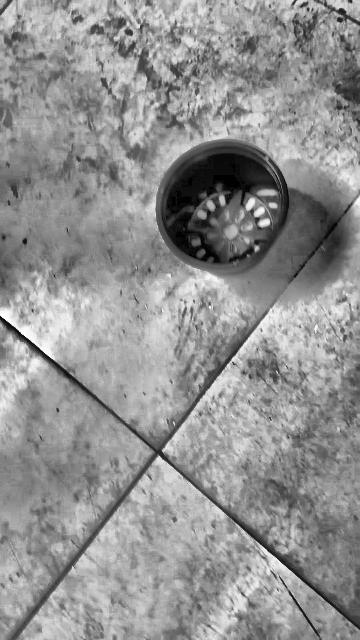pot: (155, 141, 289, 274)
